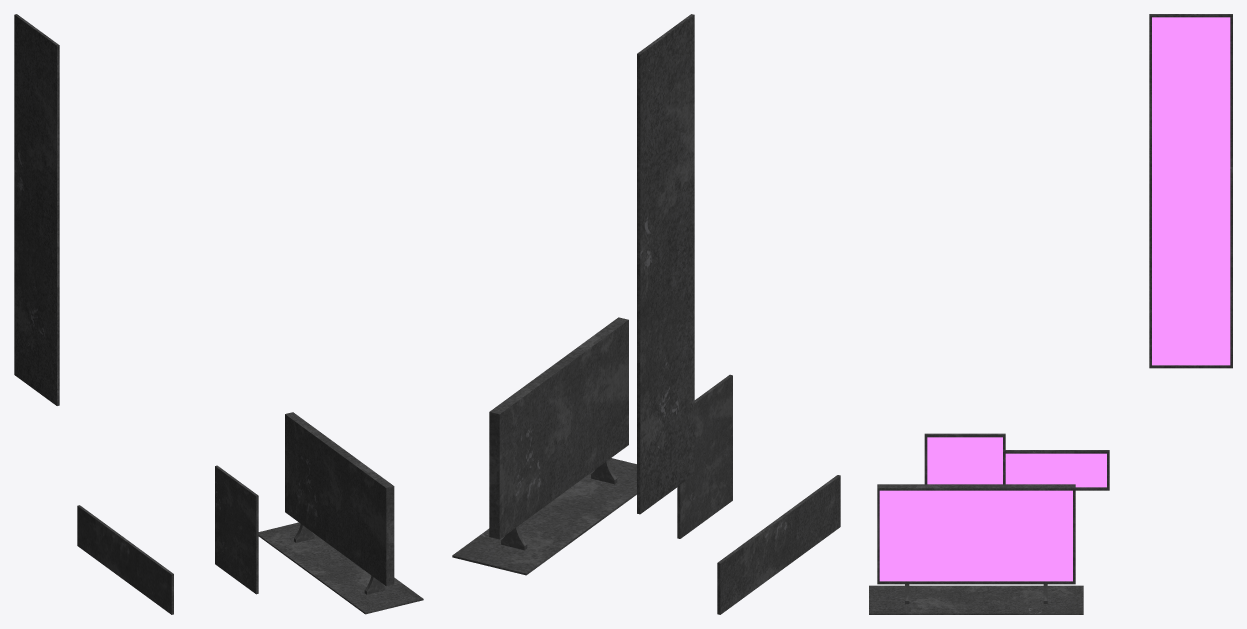
File: Banners.fbx
3 views of the same model, side by side, from view 1: azimuth 30°, elevation 25°; view 2: azimuth 150°, elevation 25°; view 3: azimuth 270°, elevation 25° (orthographic). The views are drawn at different scales.
Visible parts, largest first — view 1: Cube.005, Cube.002, Cube.003, Cube.004; view 2: Cube.005, Cube.002, Cube.004, Cube.003, Cube.001; view 3: Cube.005, Cube.002, Cube.003, Cube.004.
Boxes of the visible parts, box(x1,y1,x2,y2) form: Cube.005: box(14, 14, 59, 405); Cube.002: box(258, 412, 423, 614); Cube.003: box(215, 465, 258, 594); Cube.004: box(77, 505, 173, 614); Cube.005: box(637, 14, 694, 514); Cube.002: box(452, 317, 636, 575); Cube.004: box(717, 475, 840, 614); Cube.003: box(677, 374, 732, 538); Cube.001: box(501, 460, 617, 550); Cube.005: box(1149, 14, 1232, 368); Cube.002: box(869, 484, 1083, 614); Cube.003: box(924, 433, 1005, 484); Cube.004: box(1005, 450, 1109, 490).
Size of the model in its own units: 477 by 1028 by 686.
2 materials, 1 textured.
